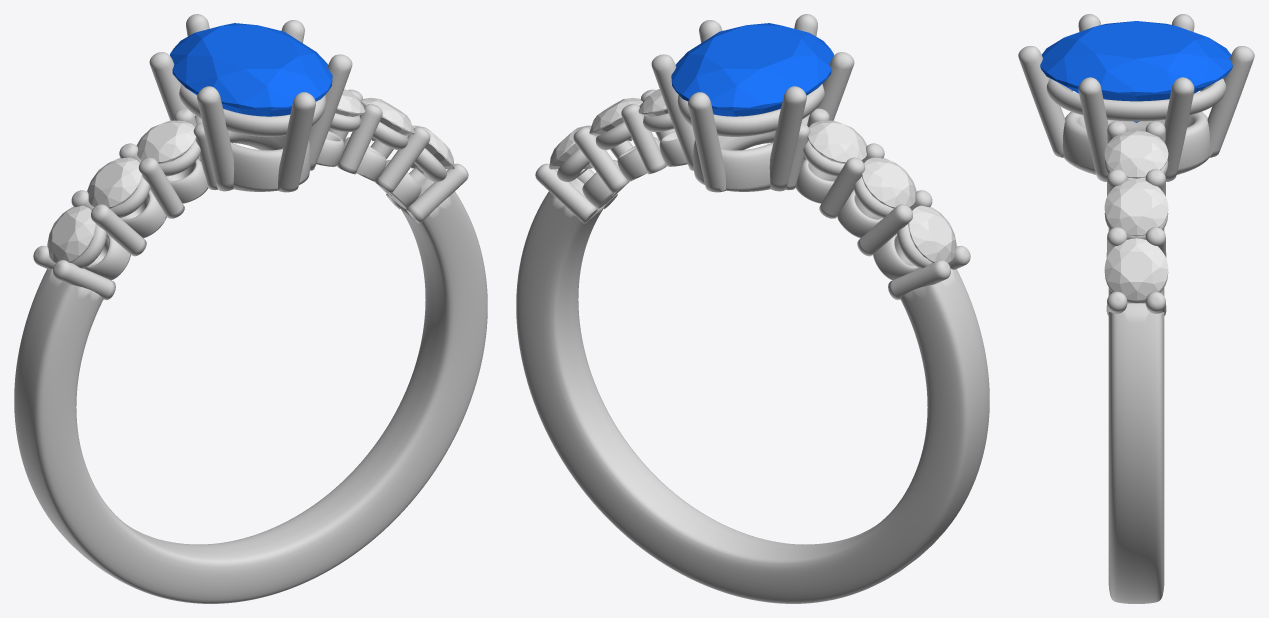
File: bluesapphire-oval-platinum-6prong-straightband-7stone.glb
3 renders of one model, left to right at view 1: azimuth 30°, elevation 25°; view 2: azimuth 150°, elevation 25°; view 3: azimuth 270°, elevation 25°, orthographic.
Parts seen in each view (by area): view 1: metal, stone.001, side.012, side.013, side.014, side.016, side.015; view 2: metal, stone.001, side.012, side.013, side.014, side.016, side.015; view 3: metal, stone.001, side.015, side.016, side.017.
Part boxes in pixels (x1,y1,x2,y2): metal: (14, 14, 487, 603); stone.001: (170, 23, 332, 116); side.012: (47, 205, 95, 262); side.013: (87, 157, 142, 208); side.014: (136, 120, 196, 163); side.016: (361, 98, 414, 140); side.015: (411, 125, 454, 169); metal: (516, 14, 989, 603); stone.001: (671, 23, 833, 116); side.012: (908, 205, 956, 262); side.013: (861, 157, 916, 208); side.014: (807, 120, 867, 163); side.016: (589, 98, 642, 140); side.015: (549, 125, 592, 169); metal: (1018, 14, 1254, 603); stone.001: (1040, 21, 1232, 122); side.015: (1104, 238, 1168, 300); side.016: (1104, 179, 1168, 236); side.017: (1104, 130, 1168, 178).
Bounding box in the file's own units: 20.5 × 23.4 × 9.29.
